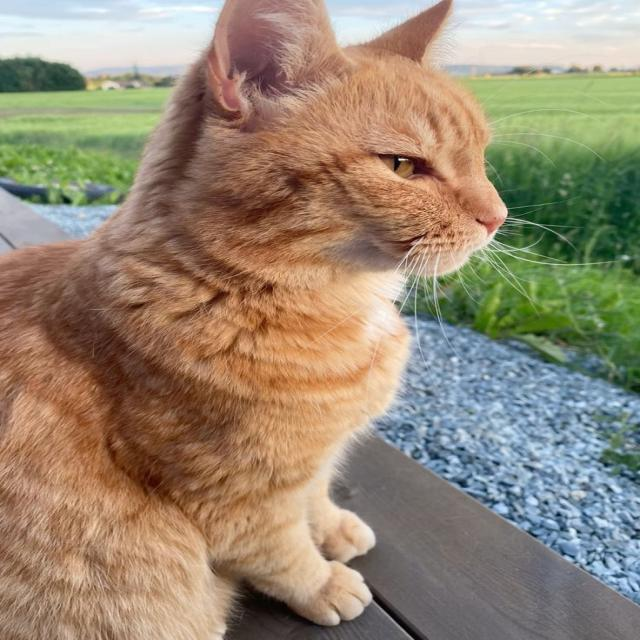sarman: (19, 0, 587, 640)
